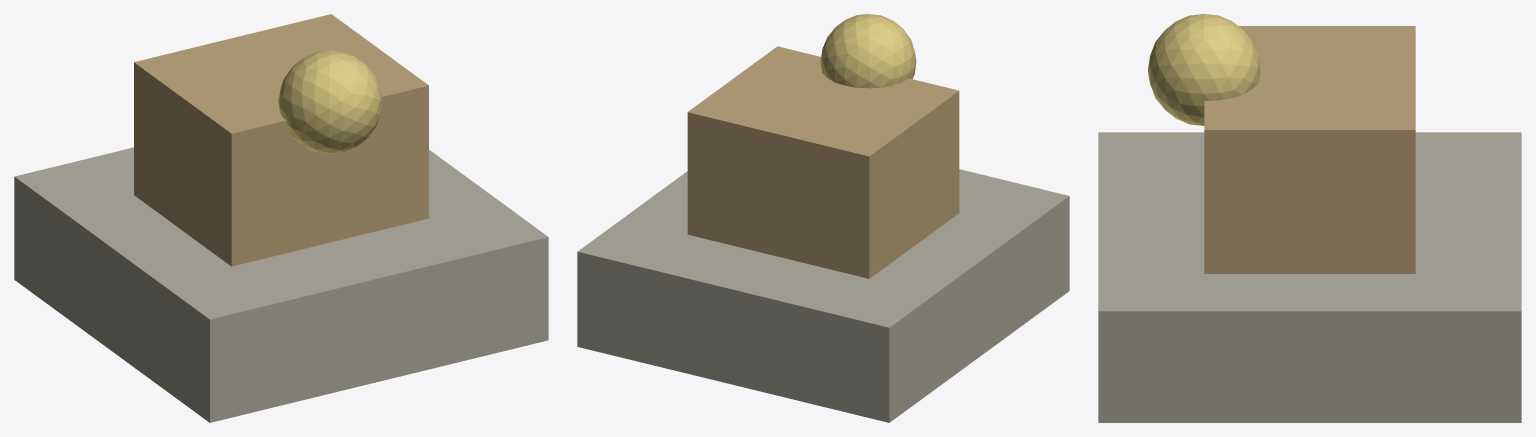
The model's file is treasure_altar.glb.
The picture shows the model from 3 angles, left to right: view 1: azimuth 30°, elevation 25°; view 2: azimuth 150°, elevation 25°; view 3: azimuth 270°, elevation 25°; orthographic projection. The views are drawn at different scales.
Visible parts, largest first — view 1: base, chest, gem; view 2: base, chest, gem; view 3: base, chest, gem.
Part boxes in pixels (<box>): base: <box>14,147,548,422</box>; chest: <box>134,14,428,266</box>; gem: <box>278,50,382,153</box>; base: <box>577,169,1069,422</box>; chest: <box>687,46,959,278</box>; gem: <box>820,14,916,88</box>; base: <box>1098,132,1521,422</box>; chest: <box>1204,26,1415,273</box>; gem: <box>1148,14,1260,125</box>.
Bounding box in the file's own units: 2.4 × 1.97 × 2.4.
